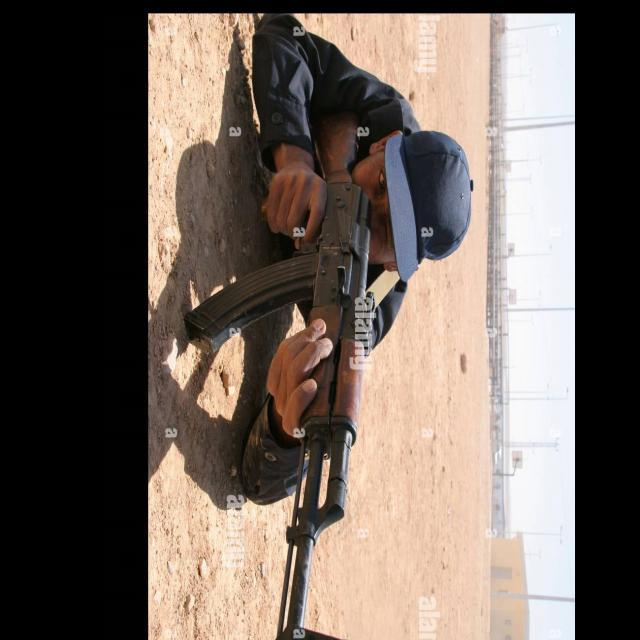weapon: (186, 112, 370, 640)
